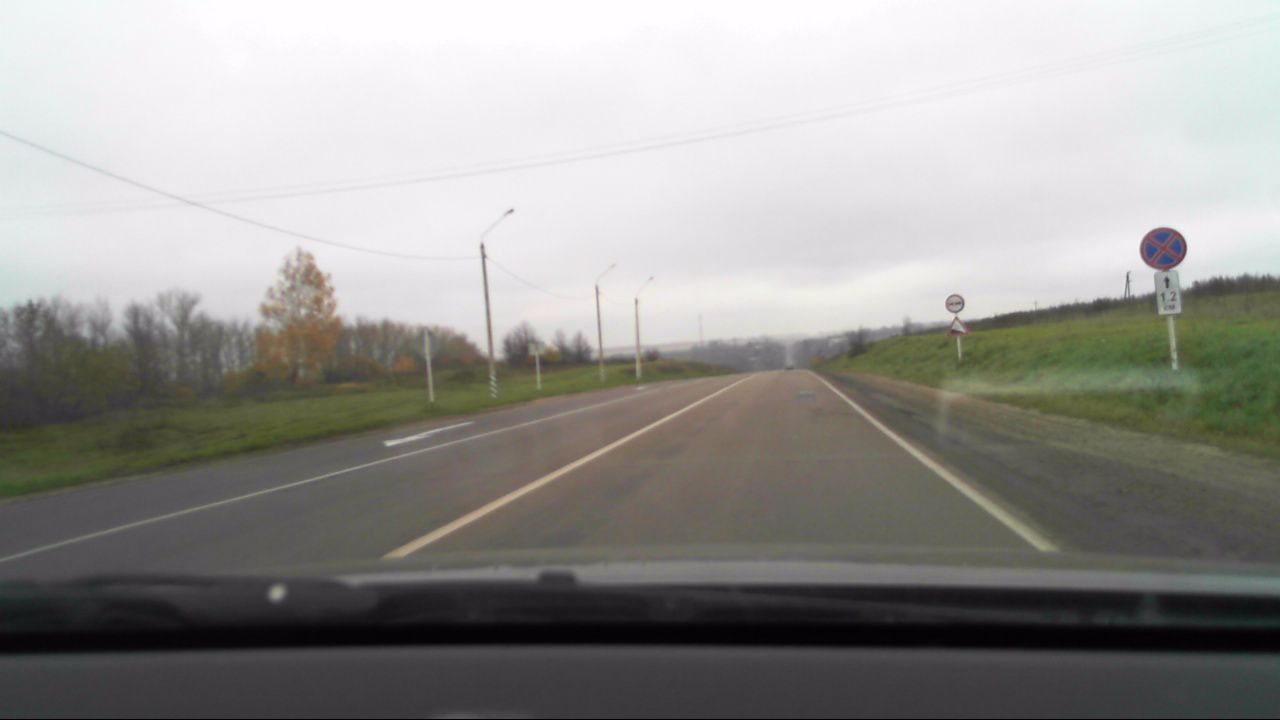No Parking: (1141, 227, 1186, 270)
